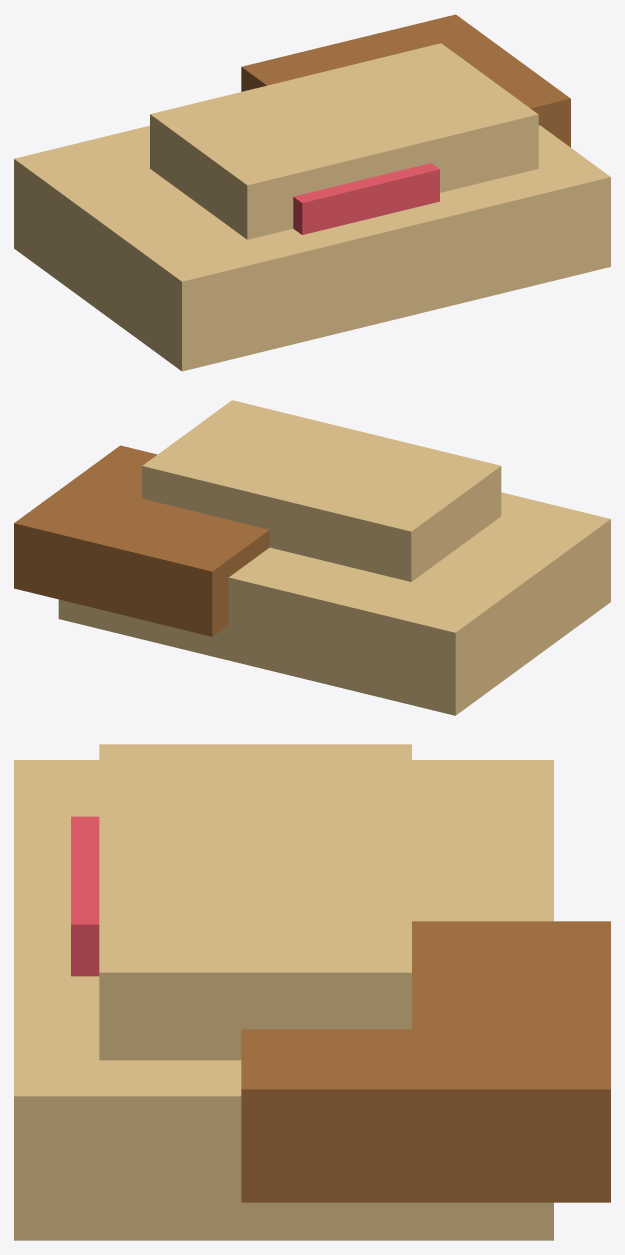
File: crumpled_wrapper.glb
3 renders of one model, top to bottom at view 1: azimuth 30°, elevation 25°; view 2: azimuth 150°, elevation 25°; view 3: azimuth 270°, elevation 25°, orthographic. The views are drawn at different scales.
Visible parts, largest first — view 1: crumpled_wrapper; view 2: crumpled_wrapper; view 3: crumpled_wrapper.
Part boxes in pixels (box(x1,y1,x2,y2)): crumpled_wrapper: box(14, 14, 610, 371); crumpled_wrapper: box(14, 400, 610, 715); crumpled_wrapper: box(14, 744, 610, 1240).
Bounding box in the file's own units: 0.15 × 0.045 × 0.105.
